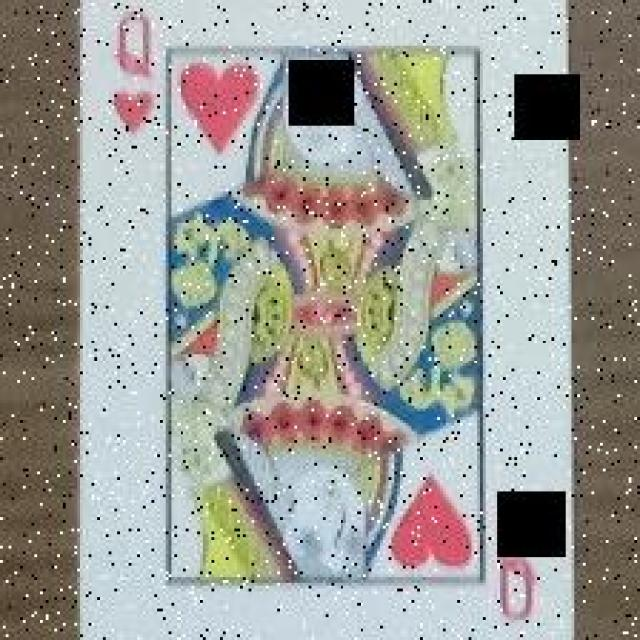Queen of hearts: (81, 2, 573, 640)
